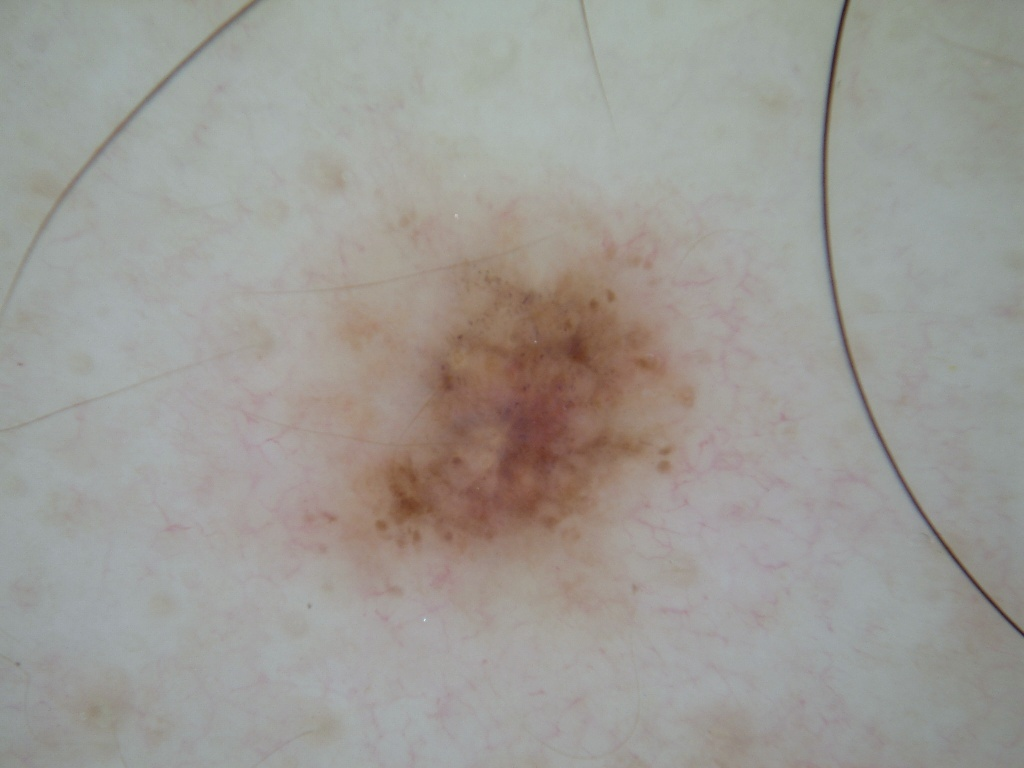Detected Lesion: (330, 228, 707, 593)
